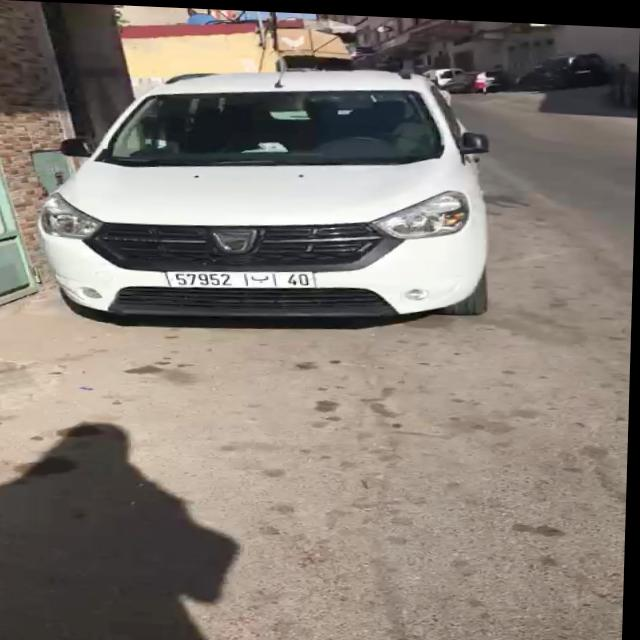License-Plate: (168, 268, 316, 286)
